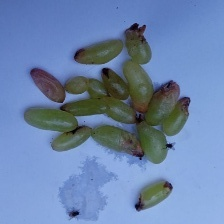grapes: (29, 31, 221, 204)
